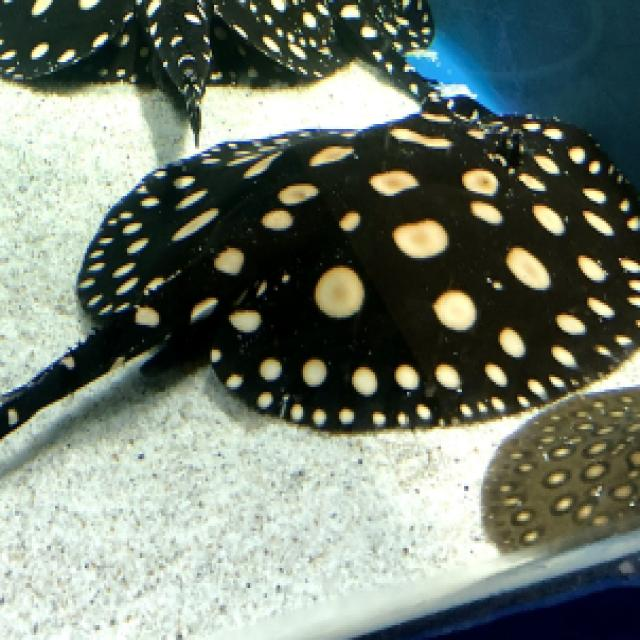black-diamond-sting-ray: (9, 47, 640, 531)
